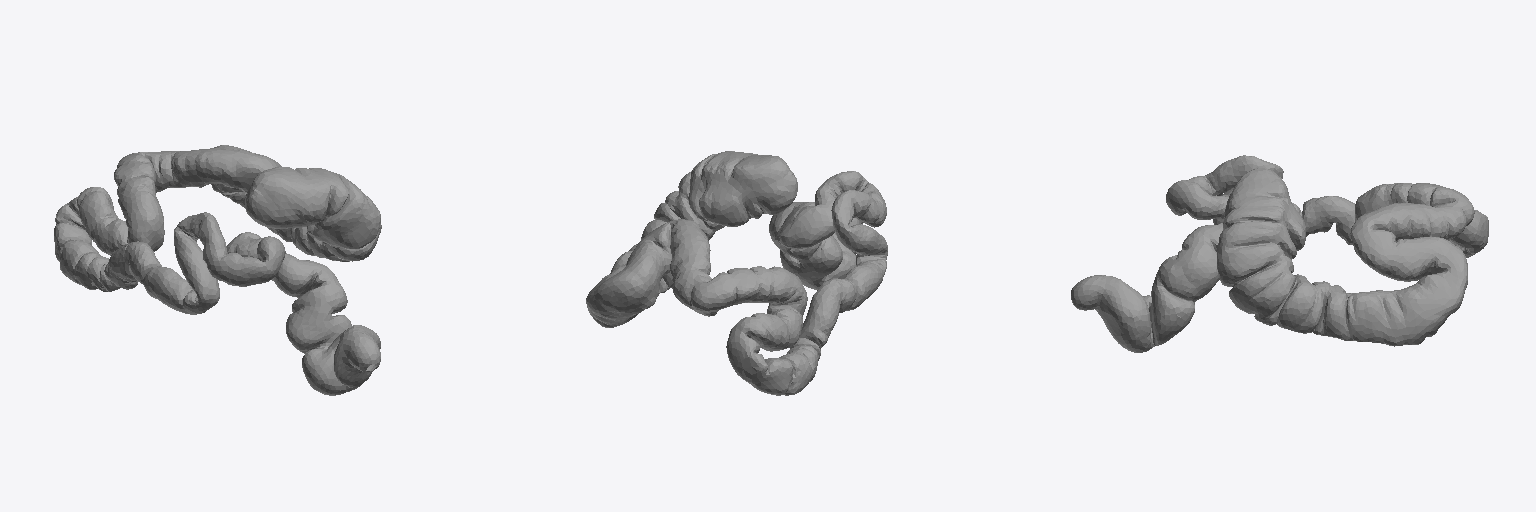
File: colon_visu.obj
3 renders of one model, left to right at view 1: azimuth 30°, elevation 25°; view 2: azimuth 150°, elevation 25°; view 3: azimuth 270°, elevation 25°, orthographic.
Parts seen in each view (by area): view 1: Colon_Colon_Mesh.005; view 2: Colon_Colon_Mesh.005; view 3: Colon_Colon_Mesh.005.
Part boxes in pixels (x1,y1,x2,y2): Colon_Colon_Mesh.005: (54, 145, 381, 395); Colon_Colon_Mesh.005: (586, 151, 887, 395); Colon_Colon_Mesh.005: (1071, 155, 1488, 352).
Size of the model in its own units: 4.94 by 3.63 by 7.8.